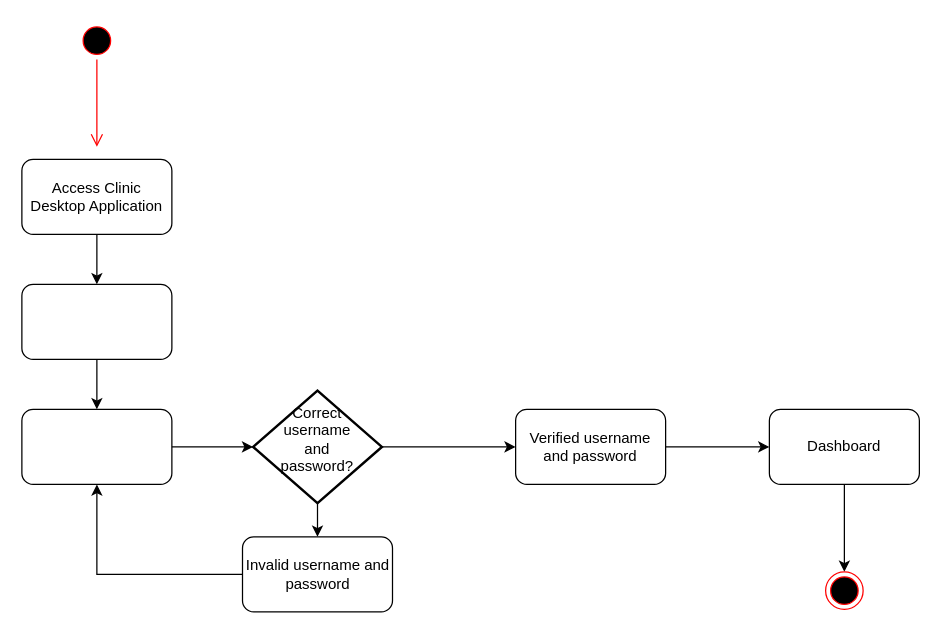
Some shapes in this 941 by 634 pixel diagram are drawn without their labels. Each missing label, with the box of its shape:
Enter username and password: (21, 408, 172, 484)
Login: (21, 283, 172, 359)
